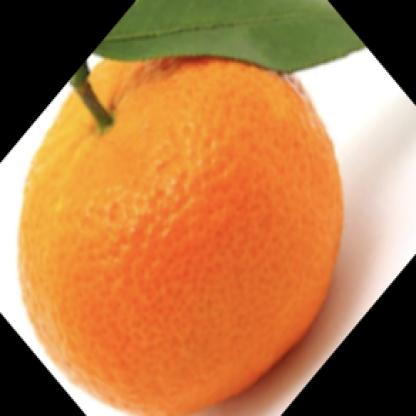fresh: (19, 44, 344, 405)
